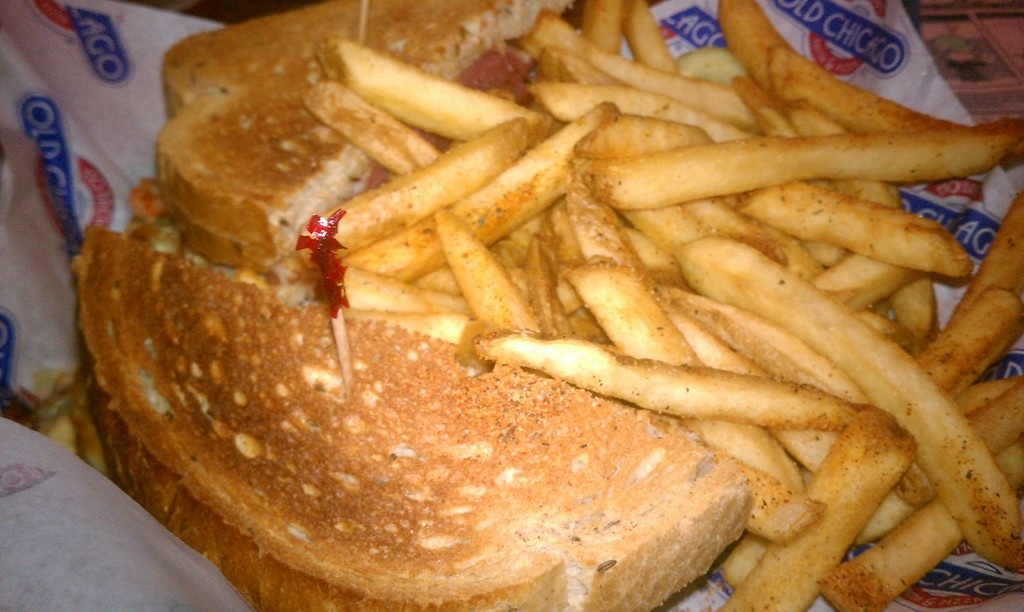French fries: (99, 0, 957, 584)
